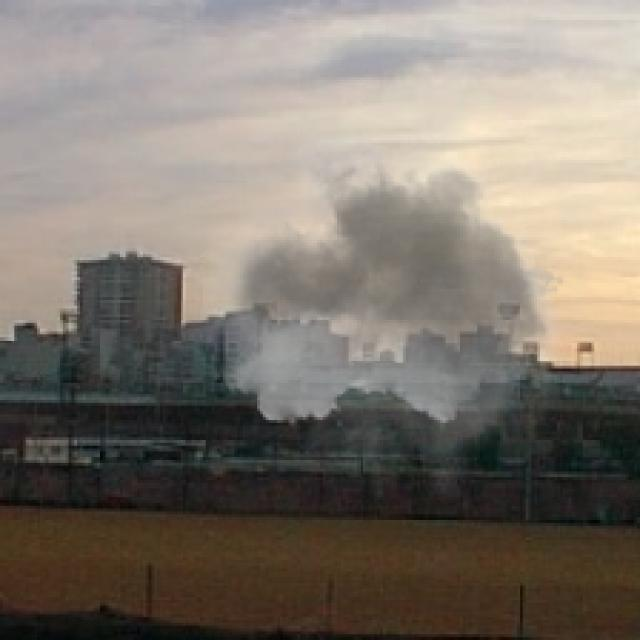smoke: (200, 120, 577, 500)
